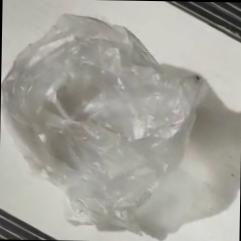Plastik: (0, 11, 206, 237)
